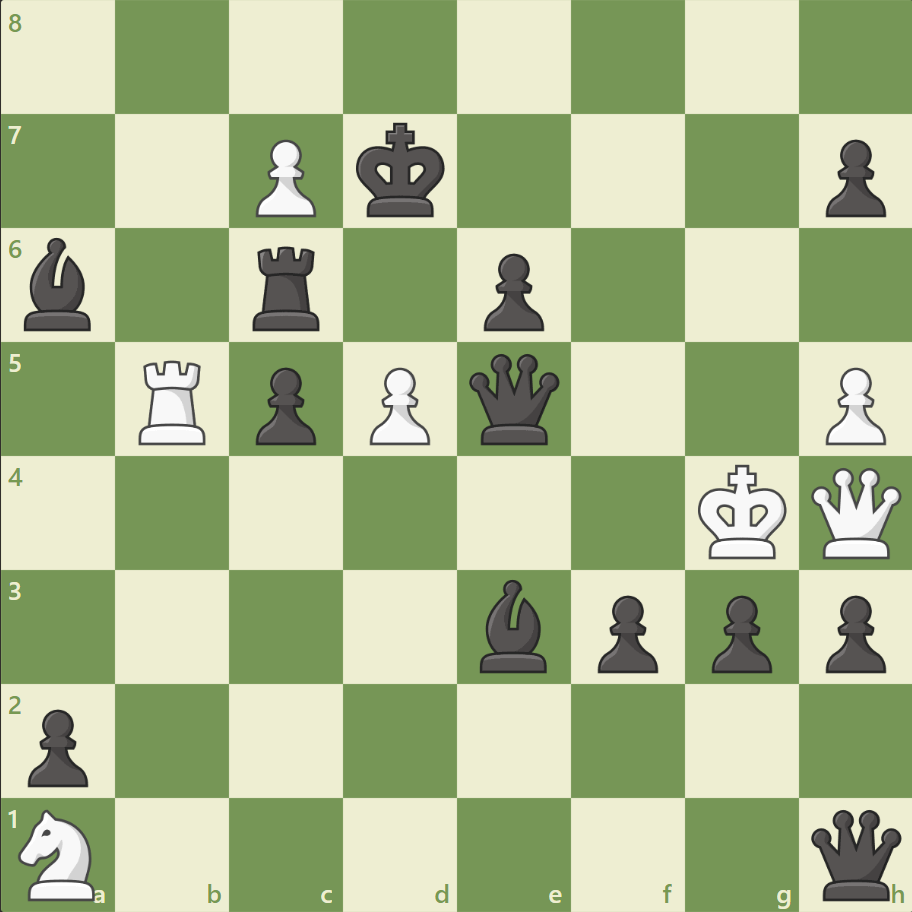K: (692, 458, 792, 566)
N: (11, 802, 108, 904)
P: (247, 132, 322, 223), (361, 359, 435, 450), (815, 359, 889, 450)
Q: (805, 463, 904, 562)
R: (133, 352, 215, 449)
b: (17, 233, 101, 336), (471, 574, 555, 676)
k: (351, 117, 451, 225)
p: (474, 246, 549, 337), (247, 359, 322, 450), (701, 586, 776, 677), (20, 700, 95, 791), (815, 132, 889, 223), (588, 586, 662, 677), (815, 586, 889, 677)
q: (464, 349, 563, 449), (805, 804, 904, 903)
r: (246, 239, 329, 336)
